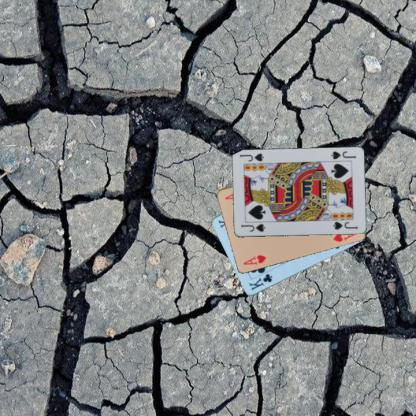Ah: (240, 252, 268, 267)
Js: (328, 148, 357, 160), (239, 222, 266, 233)
Kc: (246, 272, 273, 292)
